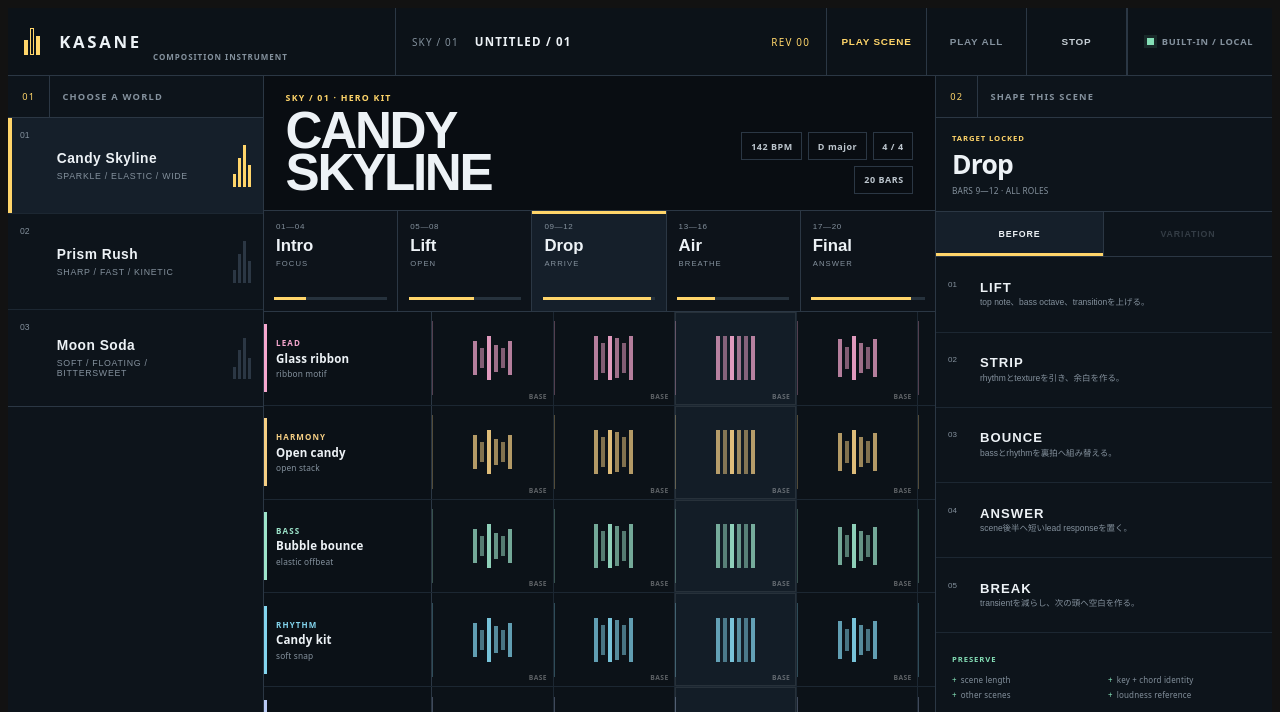
Scenario: KasaneCompositionDesk › switches a coherent kit as one unit
Click the button with aria-label "Prism Rush Hero Kit": [136, 262] box left=8, top=214, right=263, bottom=310
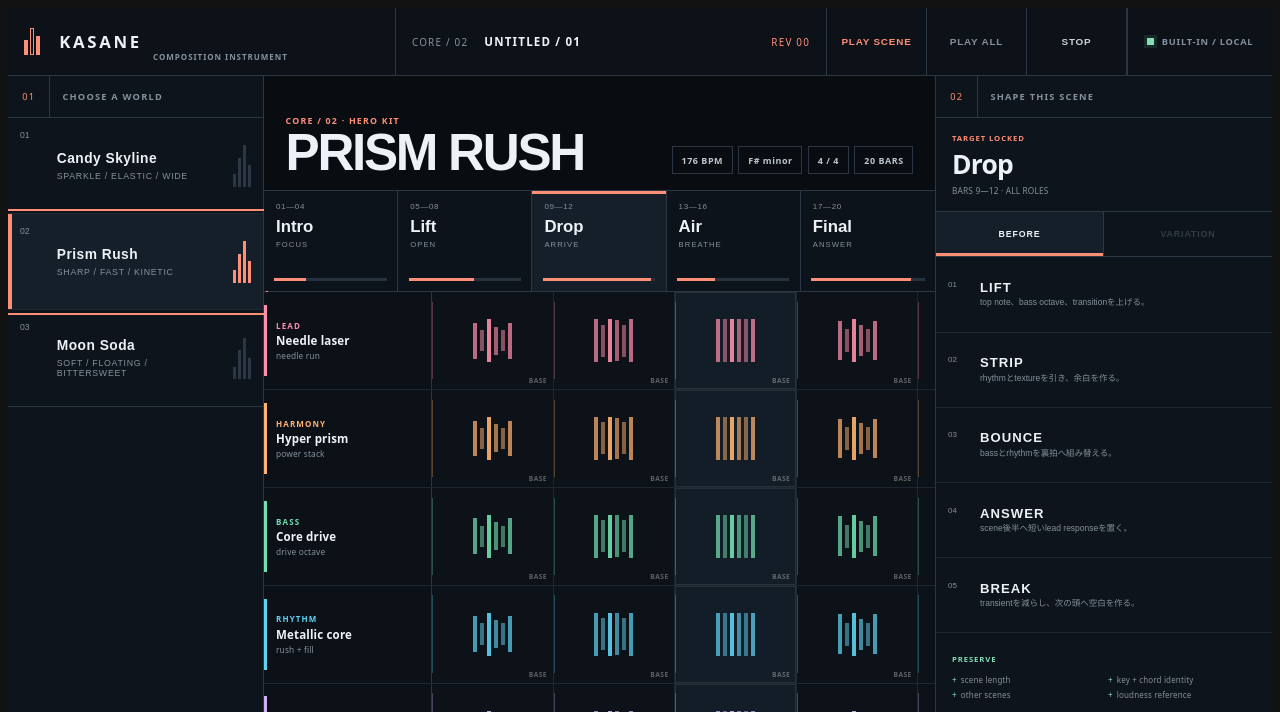
Expected: the heading "Prism Rush" is shown, left=286, top=132, right=584, bottom=174
Expected: the text "176 BPM" is shown, left=672, top=146, right=733, bottom=174
Expected: the text "F# minor" is shown, left=738, top=146, right=802, bottom=174
